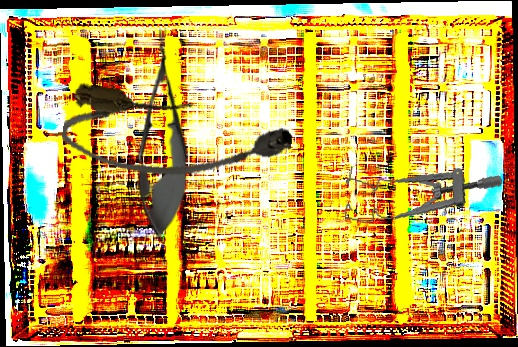Cannula: (58, 80, 296, 197)
Micro Scissor: (135, 26, 189, 242)
Speculum: (341, 152, 503, 241)
